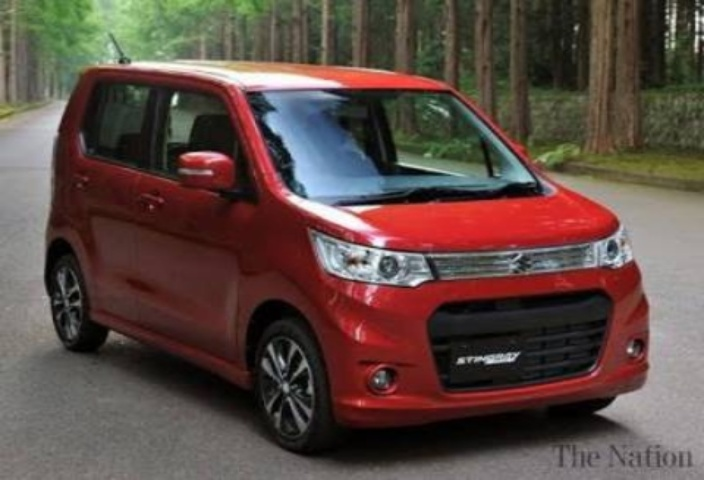van: (24, 43, 663, 443)
